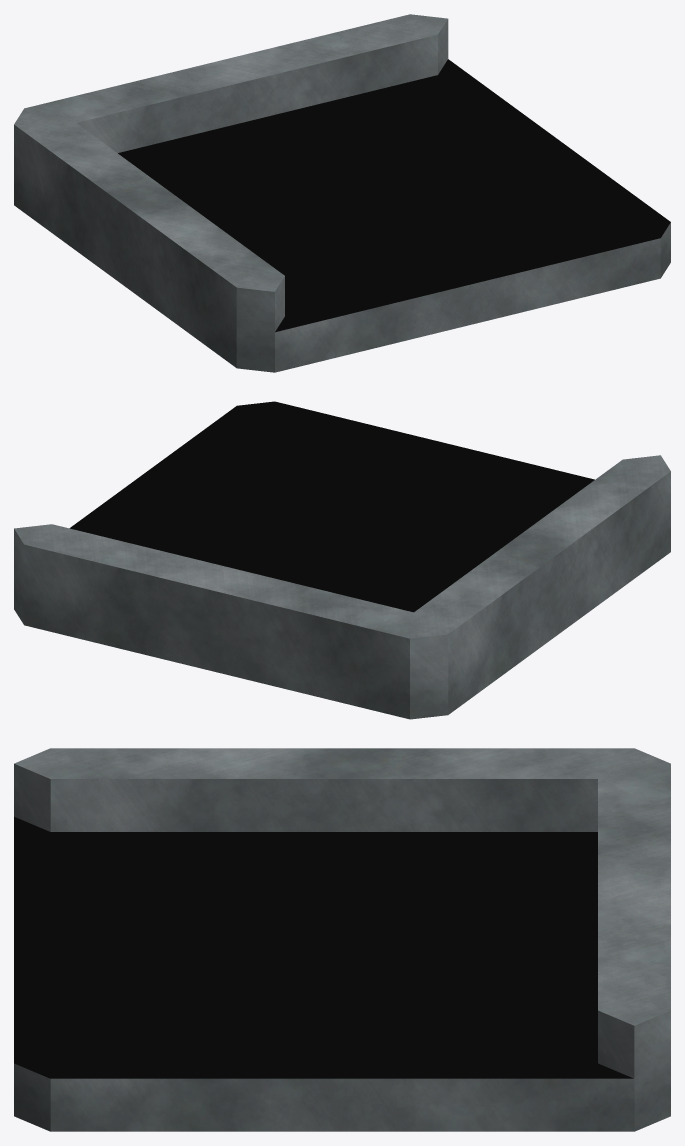
The model's file is Road Corner.fbx.
3 views of the same model, one above another, from view 1: azimuth 30°, elevation 25°; view 2: azimuth 150°, elevation 25°; view 3: azimuth 270°, elevation 25° (orthographic). The views are drawn at different scales.
Visible parts, largest first — view 1: roof_corner_4; view 2: roof_corner_4; view 3: roof_corner_4.
Part boxes in pixels (bbox=[...]): roof_corner_4: bbox=[14, 14, 670, 372]; roof_corner_4: bbox=[14, 401, 670, 719]; roof_corner_4: bbox=[14, 748, 670, 1131].
Size of the model in its own units: 11.25 by 2 by 11.25.
Materials: 2 (1 with a texture image).
